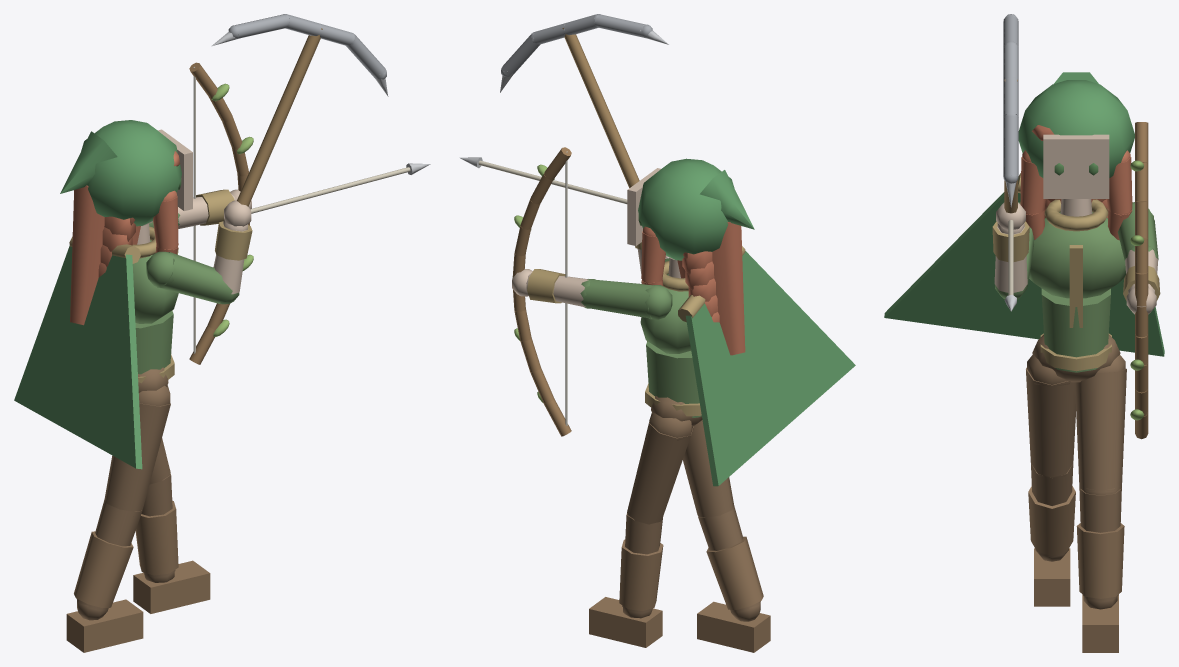
Rendered from hero_2_forest_huntress.glb.
3 views of the same model, side by side, from view 1: azimuth 30°, elevation 25°; view 2: azimuth 150°, elevation 25°; view 3: azimuth 270°, elevation 25° (orthographic). The views are drawn at different scales.
Visible parts, largest first — view 1: Cape, Head, LegR, LegL, ArmR, Pickaxe, Torso, Offhand, ArmL, Weapon; view 2: Cape, Head, LegL, LegR, Torso, ArmL, Pickaxe, Offhand, Weapon; view 3: Head, Torso, LegL, Cape, LegR, Offhand, Pickaxe, ArmR, ArmL, Weapon.
Part boxes in pixels (x1,y1,x2,y2): Cape: (14, 236, 142, 469); Head: (60, 120, 192, 325); LegR: (66, 385, 170, 652); LegL: (133, 438, 210, 613); ArmR: (146, 200, 252, 304); Pickaxe: (211, 14, 388, 206); Torso: (132, 224, 178, 392); Offhand: (189, 62, 253, 364); ArmL: (149, 189, 251, 228); Weapon: (250, 163, 430, 213); Cape: (678, 246, 855, 486); Head: (627, 158, 754, 355); LegL: (589, 413, 693, 647); LegR: (683, 420, 770, 652); Torso: (640, 258, 702, 426); ArmL: (512, 269, 672, 319); Pickaxe: (500, 14, 668, 187); Offhand: (512, 147, 571, 436); Weapon: (459, 157, 627, 204); Head: (1018, 72, 1134, 240); Torso: (1029, 199, 1125, 382); LegL: (1075, 355, 1126, 652); Cape: (884, 173, 1164, 356); LegR: (1026, 354, 1075, 606); Offhand: (1130, 122, 1148, 439); Pickaxe: (1003, 14, 1018, 213); ArmR: (992, 202, 1034, 299); ArmL: (1117, 202, 1160, 314); Weapon: (1004, 220, 1016, 311).
Bounding box in the file's own units: 1.96 × 3.18 × 1.28.
